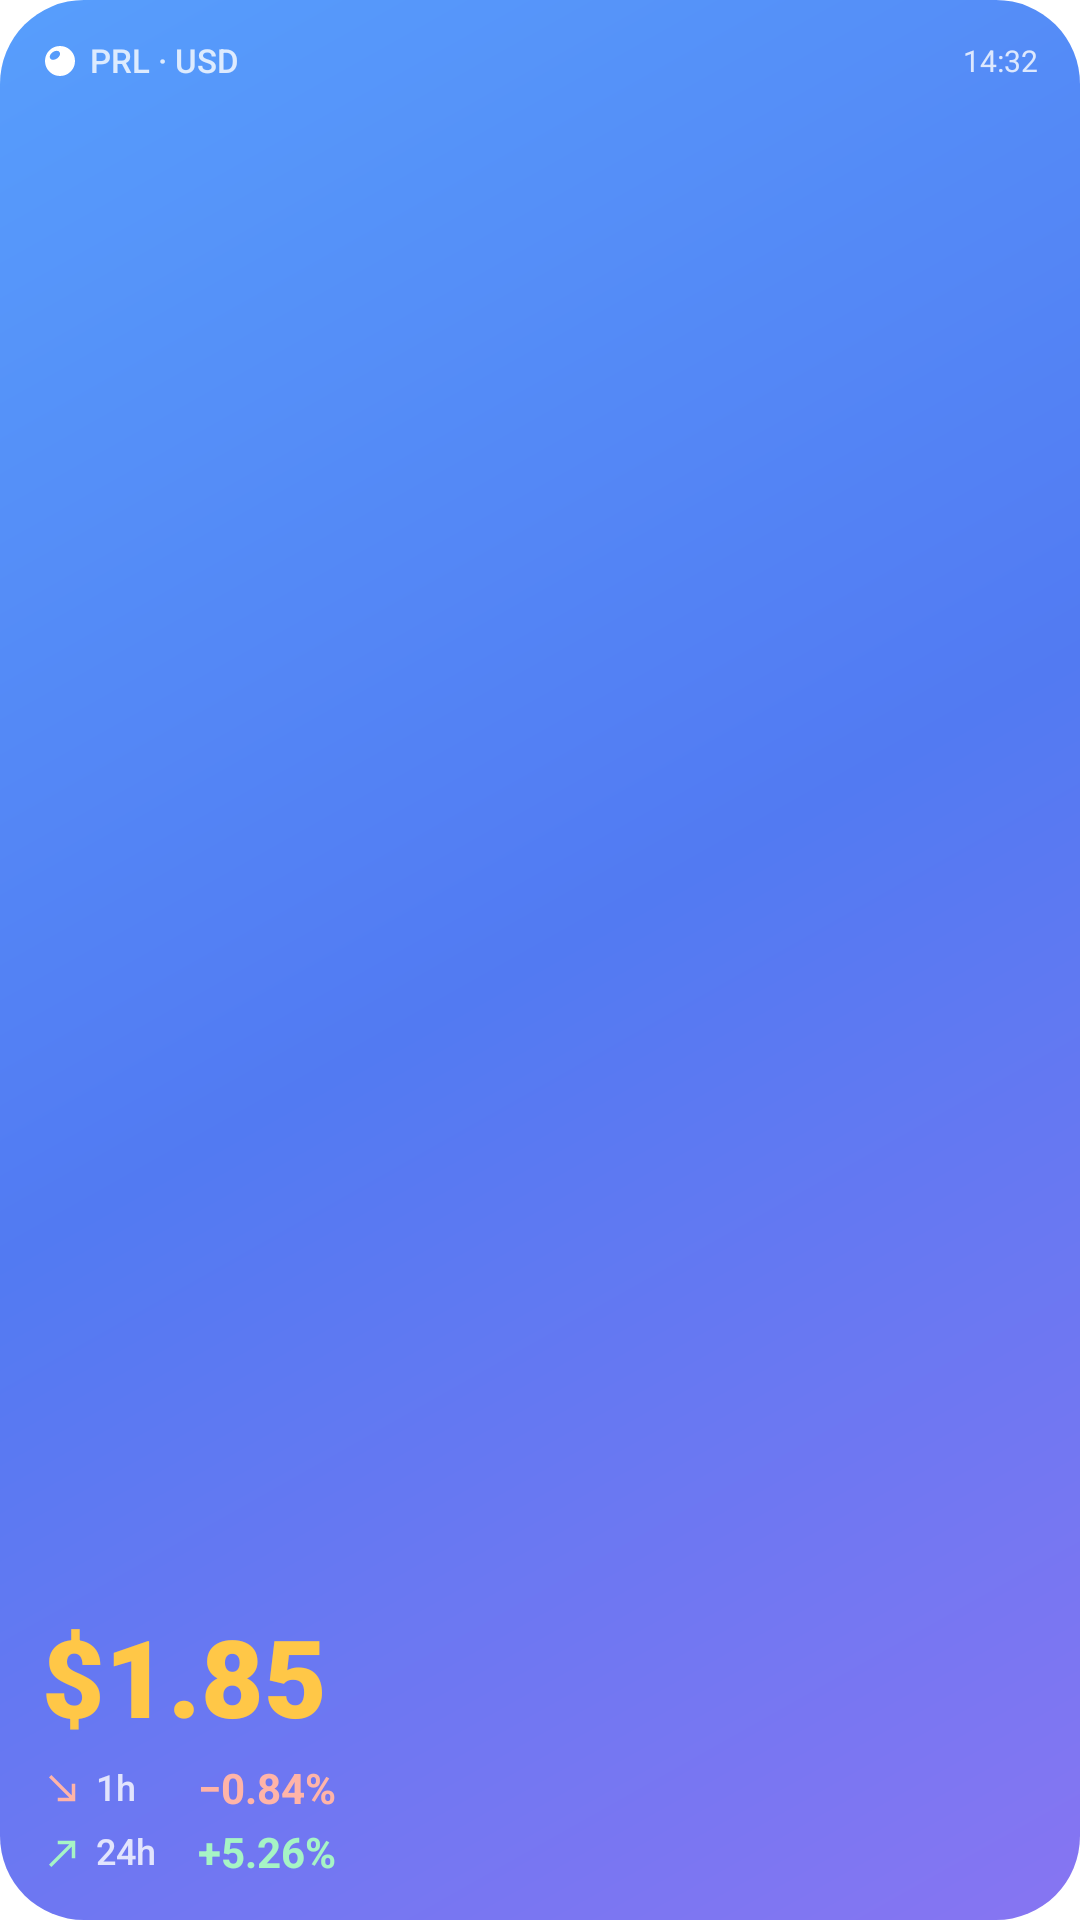

Where icons sit on this 1080w x 1920h app screen, as bbox=[x1, y1, x2, y2]:
pearl: bbox=[45, 46, 75, 76]
widget trend down: bbox=[49, 1775, 76, 1802]
widget trend up: bbox=[49, 1840, 76, 1867]
